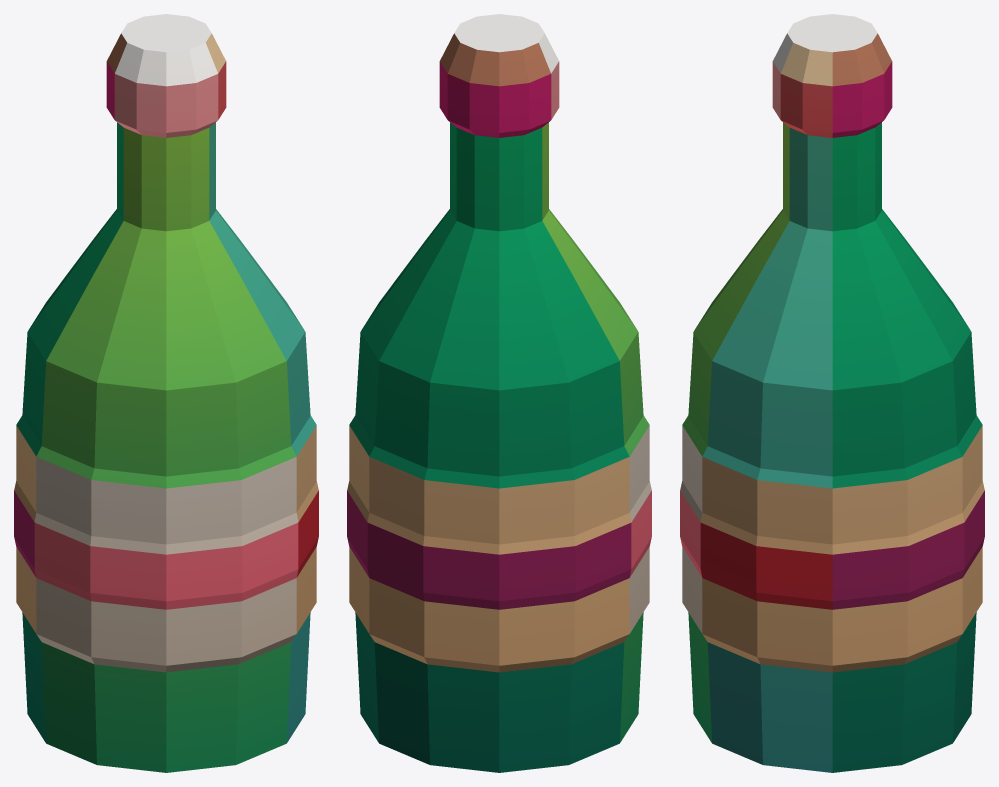
Rendered from drink_wine_bottle.glb.
3 views of the same model, side by side, from view 1: azimuth 30°, elevation 25°; view 2: azimuth 150°, elevation 25°; view 3: azimuth 270°, elevation 25° (orthographic).
Visible parts, largest first — view 1: model; view 2: model; view 3: model.
Part boxes in pixels (bbox=[...]): model: bbox=[14, 14, 318, 772]; model: bbox=[347, 14, 651, 772]; model: bbox=[680, 14, 984, 772].
Size of the model in its own units: 0.296 by 0.73 by 0.296.
Materials: 1 (1 with a texture image).
